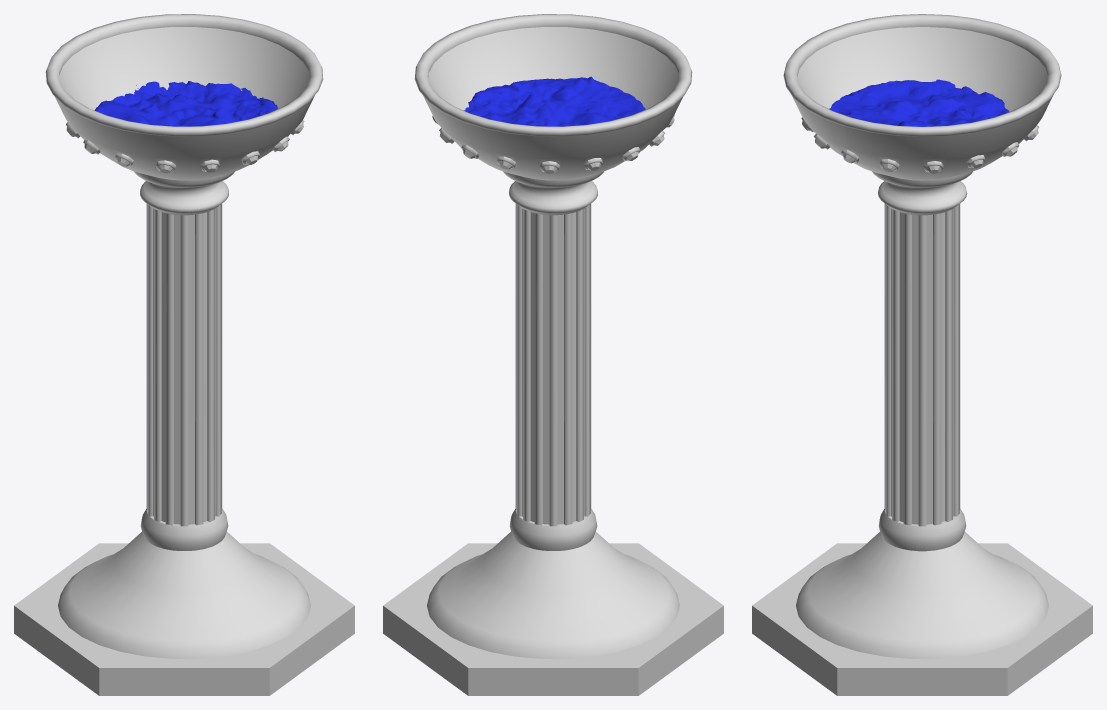
The model's file is ColumnLight02.fbx.
3 views of the same model, side by side, from view 1: azimuth 30°, elevation 25°; view 2: azimuth 150°, elevation 25°; view 3: azimuth 270°, elevation 25° (orthographic).
Visible parts, largest first — view 1: Cylinder; view 2: Cylinder; view 3: Cylinder.
Part boxes in pixels (x1,y1,x2,y2): Cylinder: (14, 14, 354, 695); Cylinder: (383, 14, 723, 695); Cylinder: (752, 14, 1092, 695).
Bounding box in the file's own units: 117 × 246 × 135.
